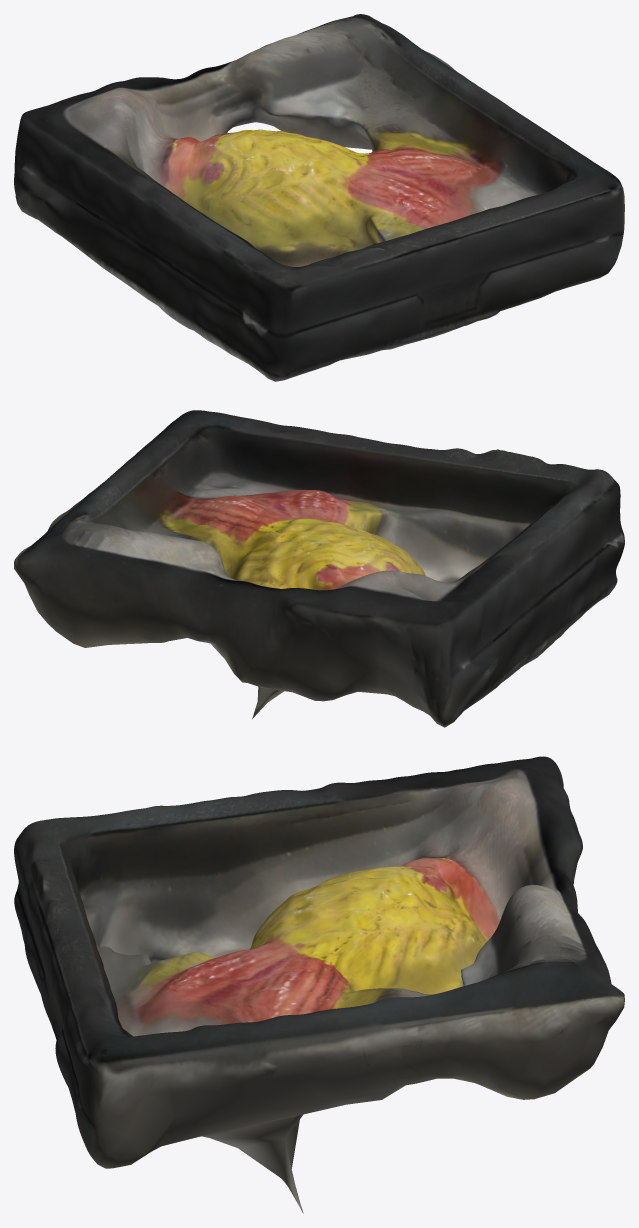
The picture shows the model from 3 angles, top to bottom: view 1: azimuth 30°, elevation 25°; view 2: azimuth 150°, elevation 25°; view 3: azimuth 270°, elevation 25°; orthographic projection. The views are drawn at different scales.
Size of the model in its own units: 0.7661 by 0.402 by 0.7281.
Materials: 1 (1 with a texture image).
